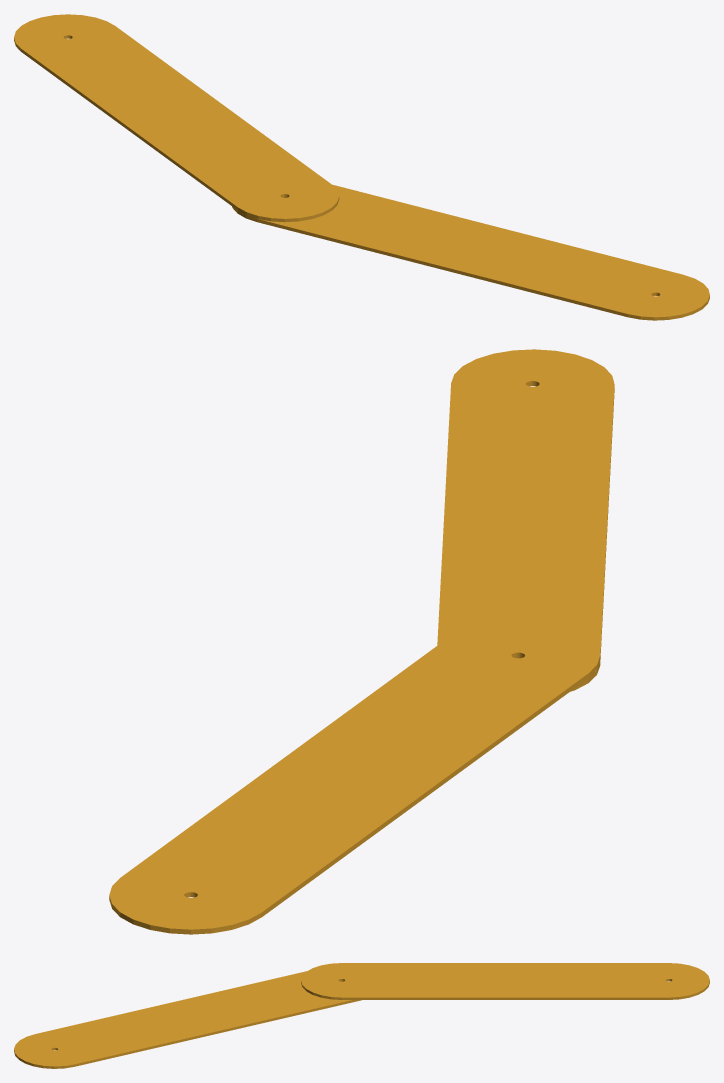
File: path.dae
3 renders of one model, top to bottom at view 1: azimuth 30°, elevation 25°; view 2: azimuth 150°, elevation 25°; view 3: azimuth 270°, elevation 25°, orthographic. The views are drawn at different scales.
Visible parts, largest first — view 1: Shape_IndexedFaceSet, Shape_IndexedFaceSet_001; view 2: Shape_IndexedFaceSet, Shape_IndexedFaceSet_001; view 3: Shape_IndexedFaceSet, Shape_IndexedFaceSet_001.
Part boxes in pixels (x1=…): Shape_IndexedFaceSet: x1=14, y1=14, x2=339, y2=222; Shape_IndexedFaceSet_001: x1=232, y1=184, x2=709, y2=320; Shape_IndexedFaceSet: x1=109, y1=621, x2=600, y2=934; Shape_IndexedFaceSet_001: x1=437, y1=349, x2=614, y2=691; Shape_IndexedFaceSet: x1=301, y1=963, x2=709, y2=999; Shape_IndexedFaceSet_001: x1=14, y1=971, x2=361, y2=1068.
Bounding box in the file's own units: 0.4454 × 1.3 × 0.0102.
